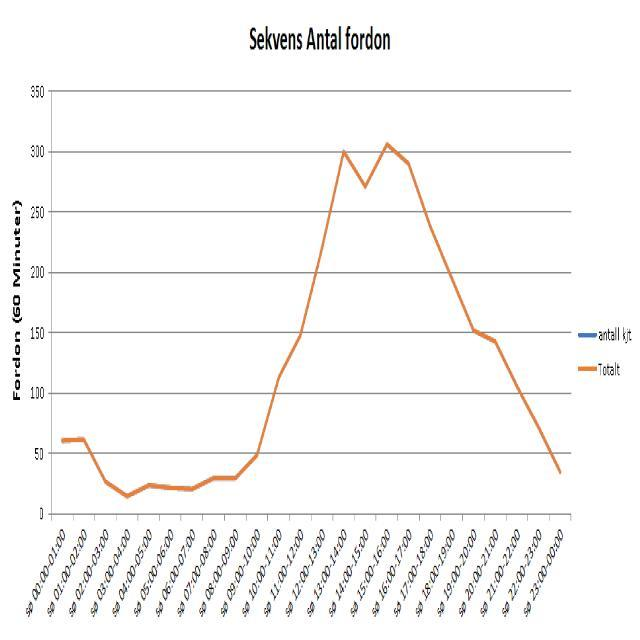axis: (46, 505, 577, 525), (46, 70, 56, 525)
line: (59, 138, 566, 503)
